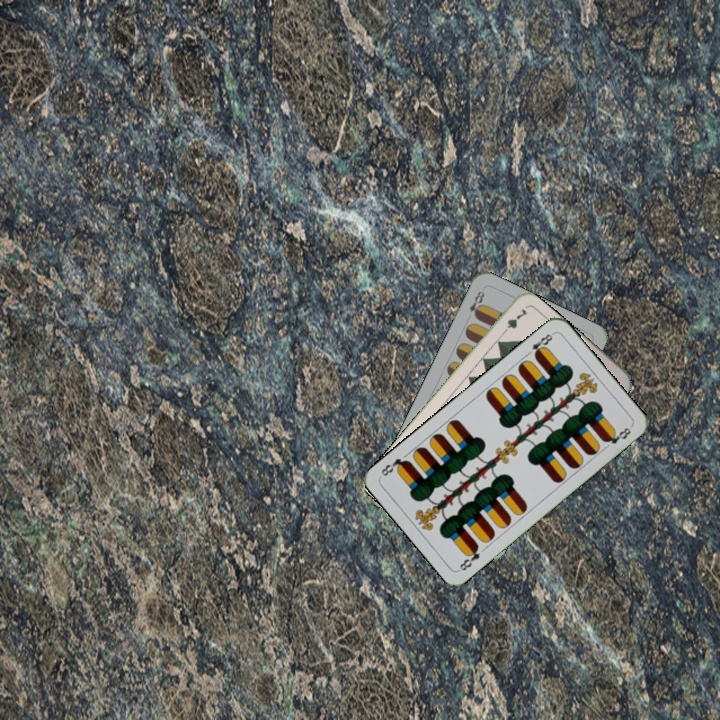E8: (522, 329, 556, 360), (455, 541, 482, 573), (465, 287, 487, 321)
G7: (497, 304, 531, 339)
